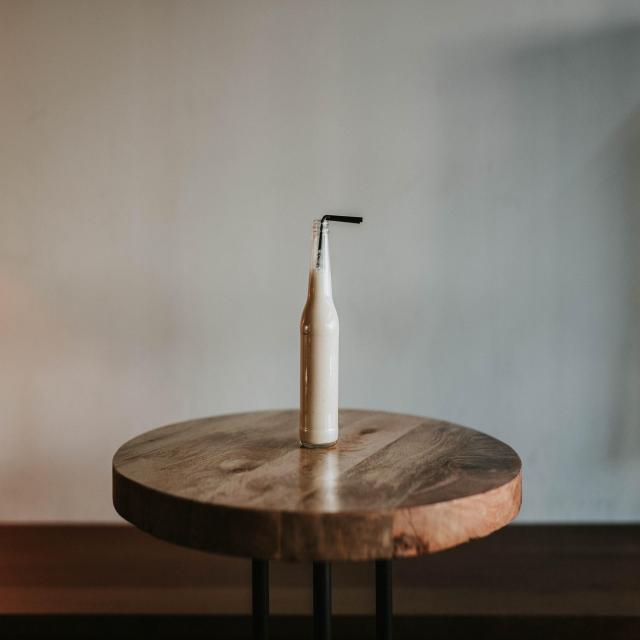table: (86, 178, 538, 616)
